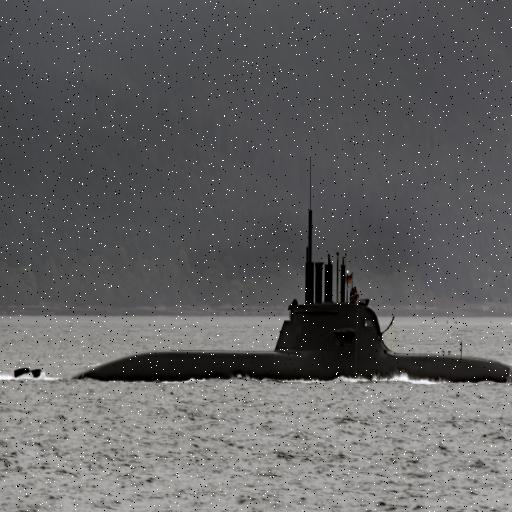submarine: (10, 182, 512, 386)
